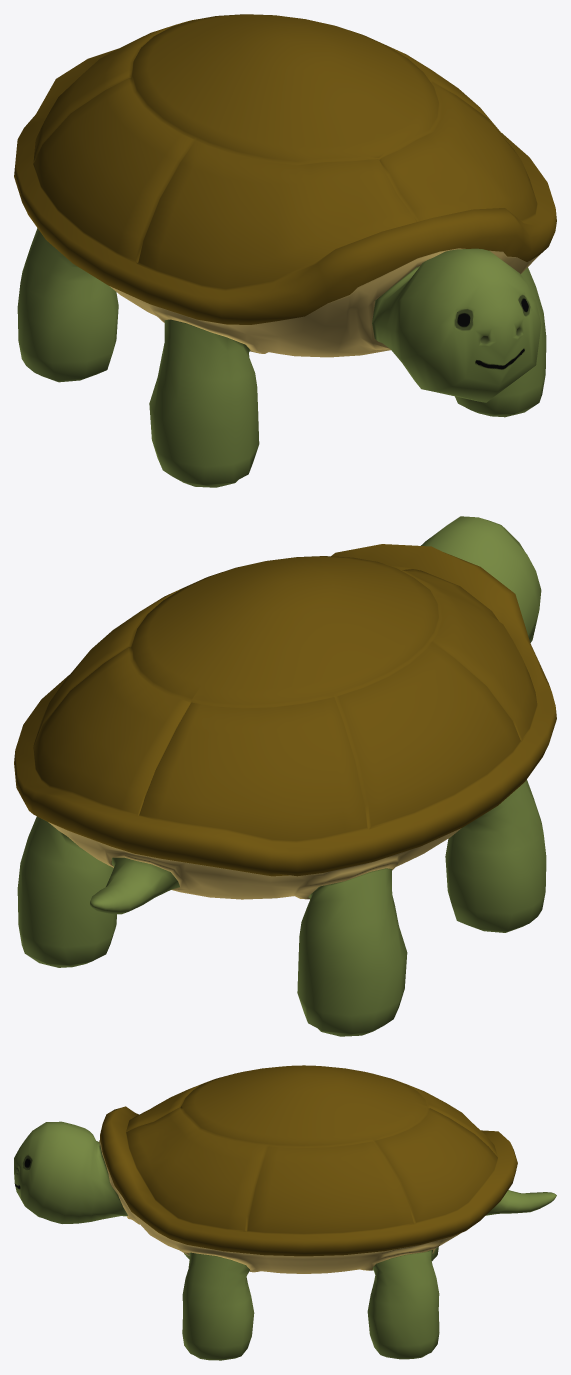
Rendered from turtle.fbx.
3 renders of one model, top to bottom at view 1: azimuth 30°, elevation 25°; view 2: azimuth 150°, elevation 25°; view 3: azimuth 270°, elevation 25°, orthographic. The views are drawn at different scales.
Parts seen in each view (by area): view 1: turtle; view 2: turtle; view 3: turtle.
Boxes of the visible parts, x1,y1,x2,y2 form: turtle: [14, 14, 556, 487]; turtle: [14, 516, 556, 1036]; turtle: [14, 1065, 556, 1360].
Bounding box in the file's own units: 98.23 × 75.39 × 161.
1 material, 1 textured.
